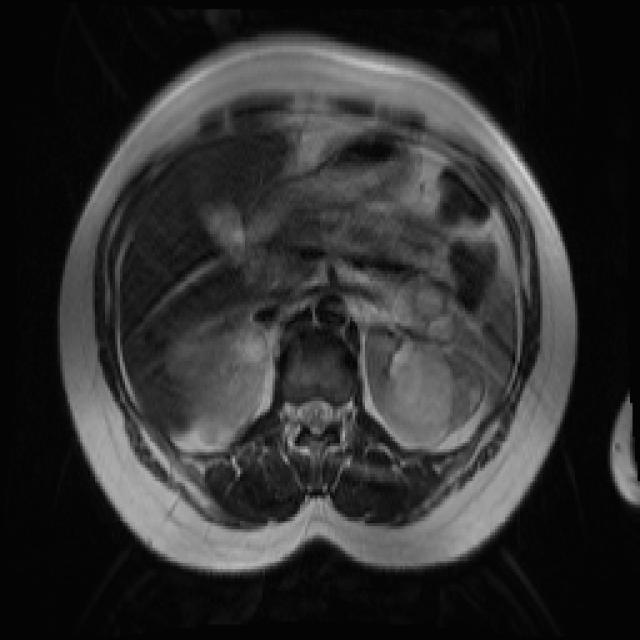sag: (168, 319, 272, 447)
sol: (365, 279, 486, 451)
